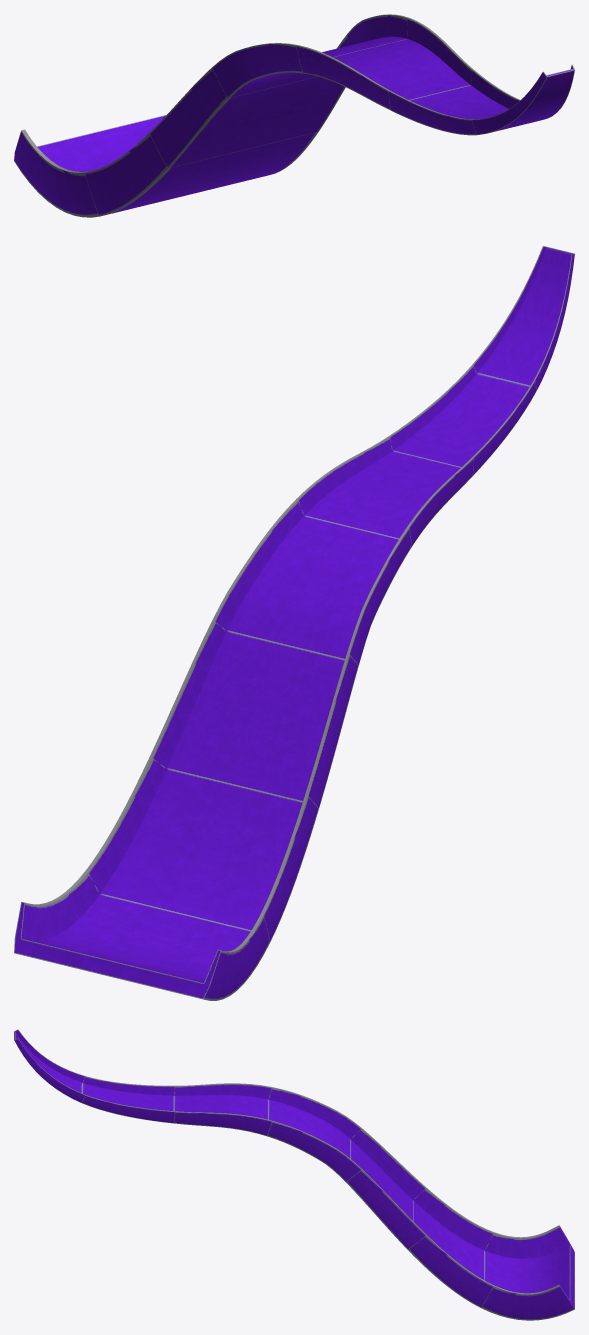
File: Skeeball_Slide.glb
3 renders of one model, top to bottom at view 1: azimuth 30°, elevation 25°; view 2: azimuth 150°, elevation 25°; view 3: azimuth 270°, elevation 25°, orthographic. The views are drawn at different scales.
Visible parts, largest first — view 1: Slide; view 2: Slide; view 3: Slide.
Part boxes in pixels (x1,y1,x2,y2): Slide: (14, 14, 574, 217); Slide: (14, 246, 574, 1000); Slide: (14, 1029, 574, 1320).
Bounding box in the file's own units: 8.75 × 17.47 × 34.22.
1 material, 1 textured.
